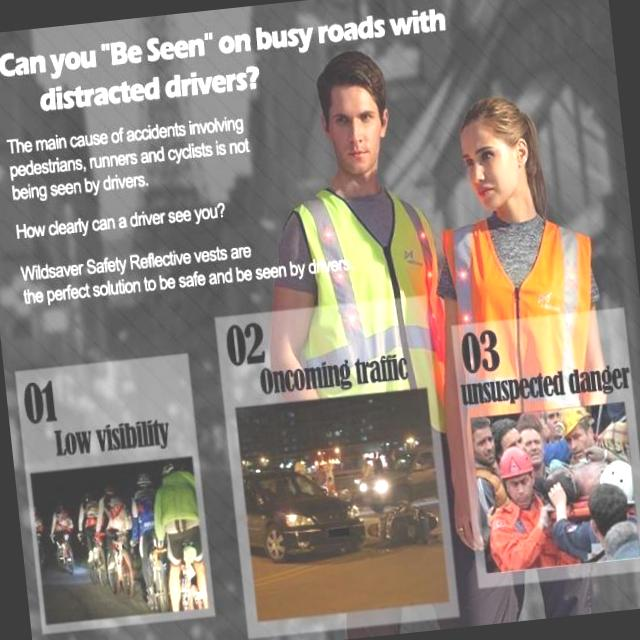vest: (288, 179, 442, 398), (445, 214, 590, 326)
